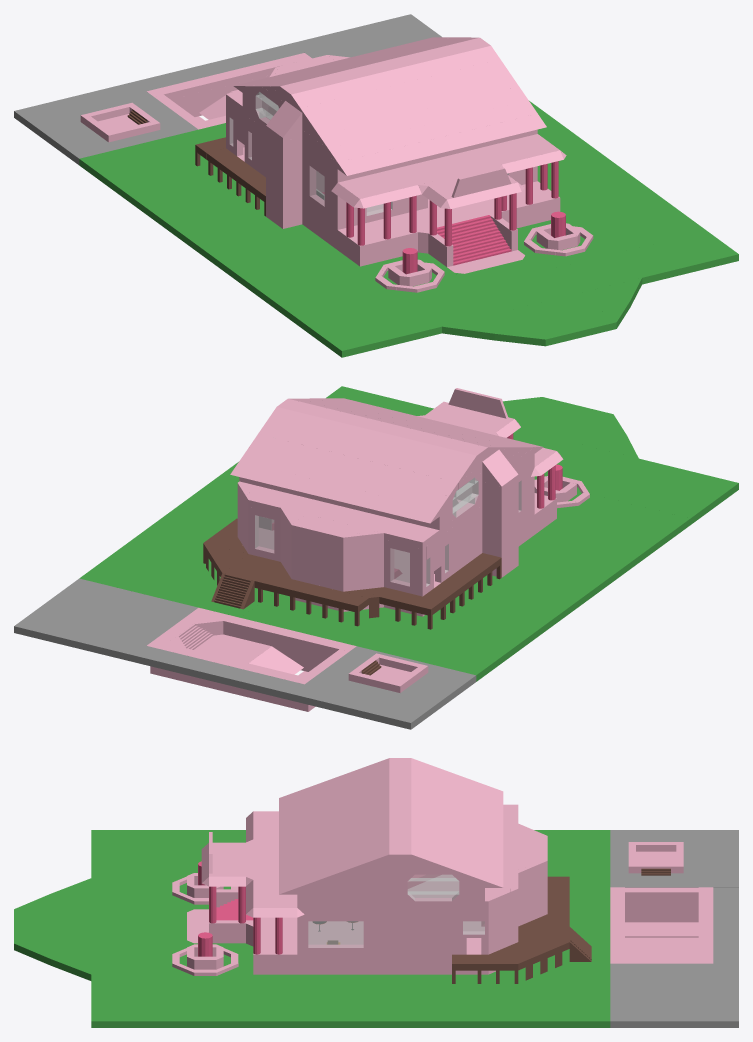
File: model-triangulated.obj
3 renders of one model, top to bottom at view 1: azimuth 30°, elevation 25°; view 2: azimuth 150°, elevation 25°; view 3: azimuth 270°, elevation 25°, orthographic.
Visible parts, largest first — view 1: group468627337, group140974660, group1162040733, group1646688296, group1512824387, group632851983, group1967046676, group309805238, group1024237734, group684463606, group1514795735, group215419042 (+28 smaller); view 2: group468627337, group1514795735, group140974660, group340394544, group192495614, group1607319648, group163149771, group1699825223, group1374655403, group1700254059, group206490035, group215419042 (+36 smaller); view 3: group468627337, group1514795735, group1162040733, group140974660, group2041255099, group315160935, group1646688296, group215419042, group2028413481, group1179195914, group1024237734, group1700254059 (+39 smaller).
Part boxes in pixels (box(x1,y1,x2,y2)): group468627337: box(79, 101, 738, 357); group140974660: box(14, 82, 197, 164); group1162040733: box(237, 147, 560, 266); group1646688296: box(338, 134, 559, 198); group1512824387: box(291, 46, 499, 107); group632851983: box(337, 113, 546, 175); group1967046676: box(309, 73, 518, 135); group309805238: box(328, 100, 537, 162); group1024237734: box(319, 86, 527, 148); group684463606: box(300, 59, 509, 121); group1514795735: box(292, 14, 441, 58); group215419042: box(507, 293, 616, 345); group468627337: box(79, 386, 738, 681); group1514795735: box(14, 578, 197, 661); group140974660: box(291, 646, 476, 729); group340394544: box(248, 487, 439, 549); group192495614: box(230, 461, 439, 523); group1607319648: box(258, 420, 467, 482); group163149771: box(249, 434, 457, 496); group1699825223: box(267, 407, 476, 468); group1374655403: box(240, 447, 448, 509); group1700254059: box(133, 646, 304, 700); group206490035: box(291, 522, 346, 591); group215419042: box(513, 397, 612, 442); group468627337: box(91, 830, 610, 1027); group1514795735: box(610, 963, 738, 1027); group1162040733: box(253, 875, 495, 974); group140974660: box(610, 830, 738, 887); group2041255099: box(304, 874, 385, 921); group315160935: box(400, 908, 459, 954); group1646688296: box(253, 811, 297, 907); group215419042: box(14, 909, 91, 943); group2028413481: box(625, 887, 698, 922); group1179195914: box(389, 758, 411, 861); group1024237734: box(315, 778, 334, 881); group1700254059: box(713, 887, 738, 963).
Bounding box in the file's own units: 1.23 × 0.46 × 1.97.
